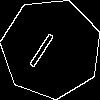I: (26, 23, 62, 69)
